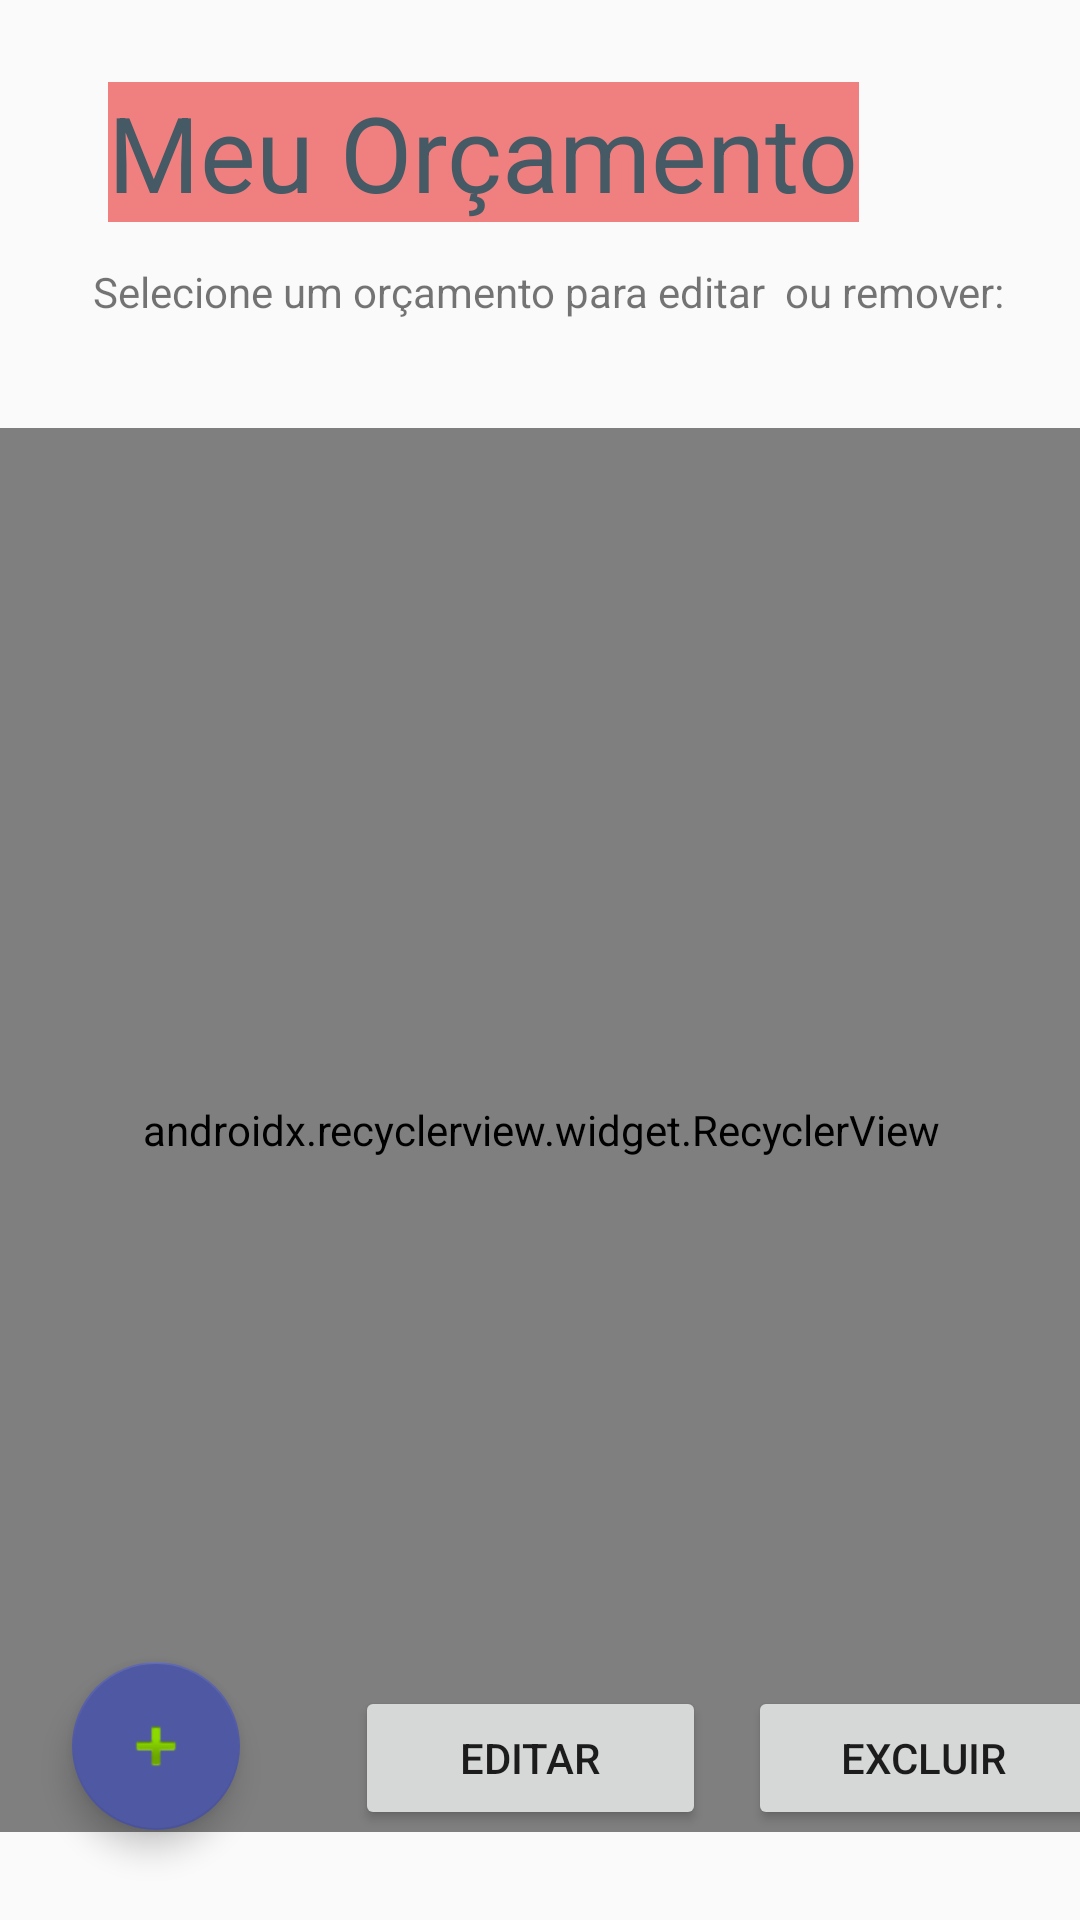

Where icons sit on this 1080 x 1920 app screen, as (left=x1, top=y1, right=x2, bottom=y2):
add: (left=72, top=1662, right=240, bottom=1830)
